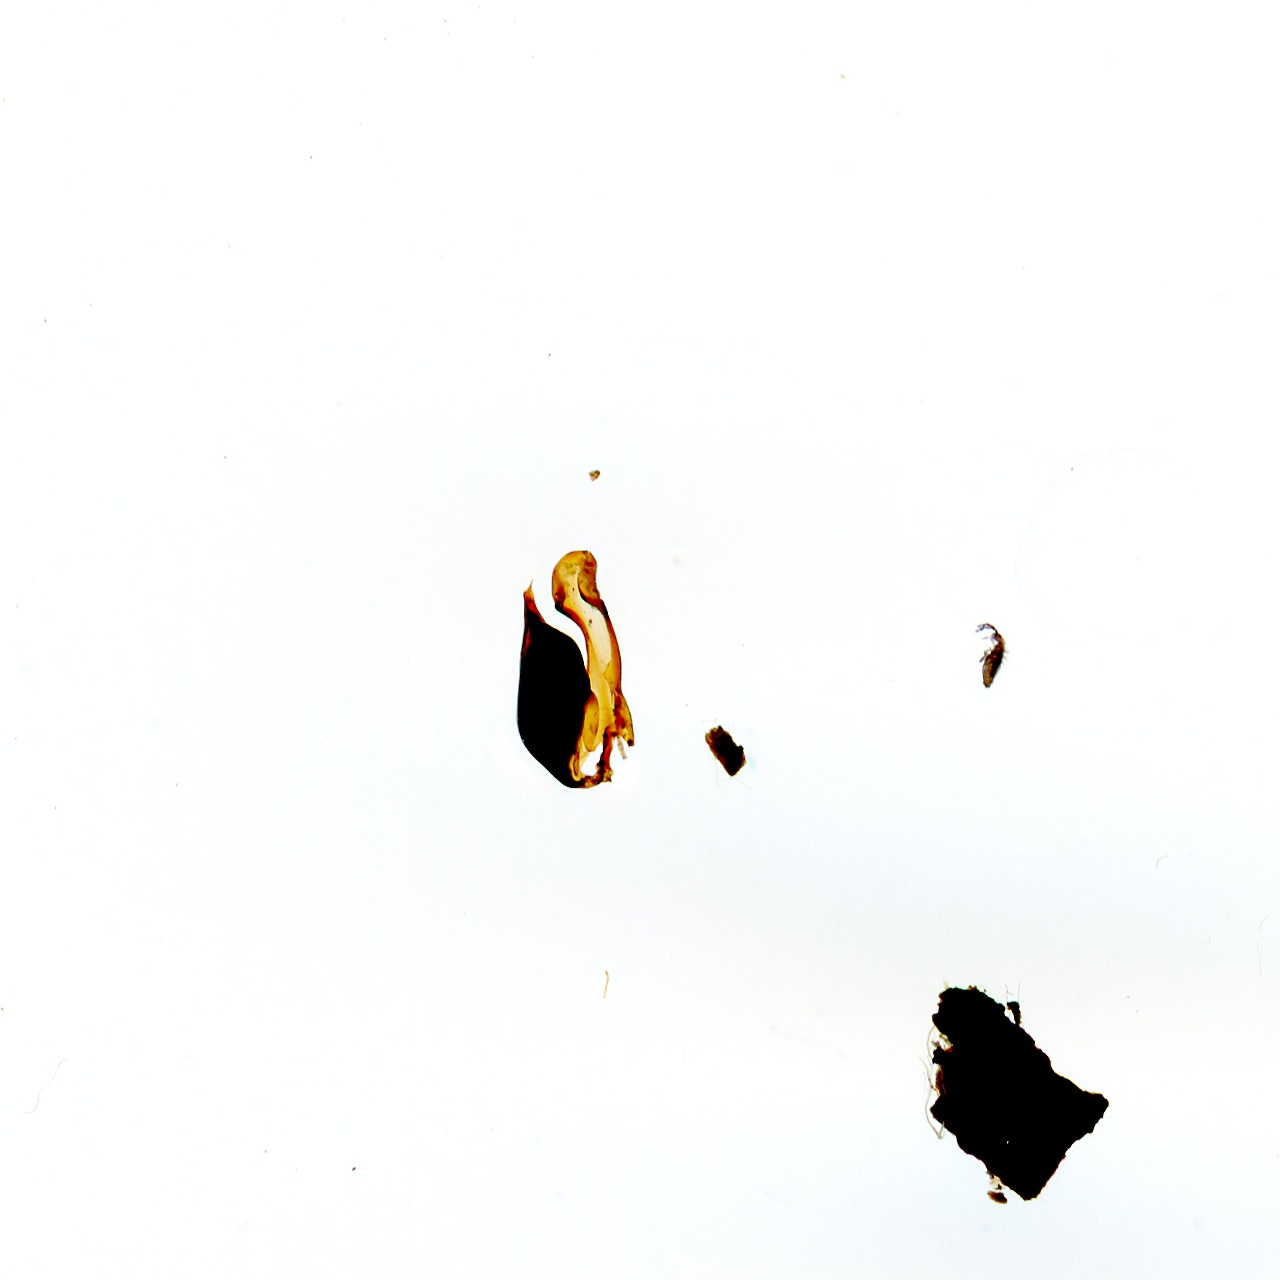arthropod: (972, 620, 1014, 704)
